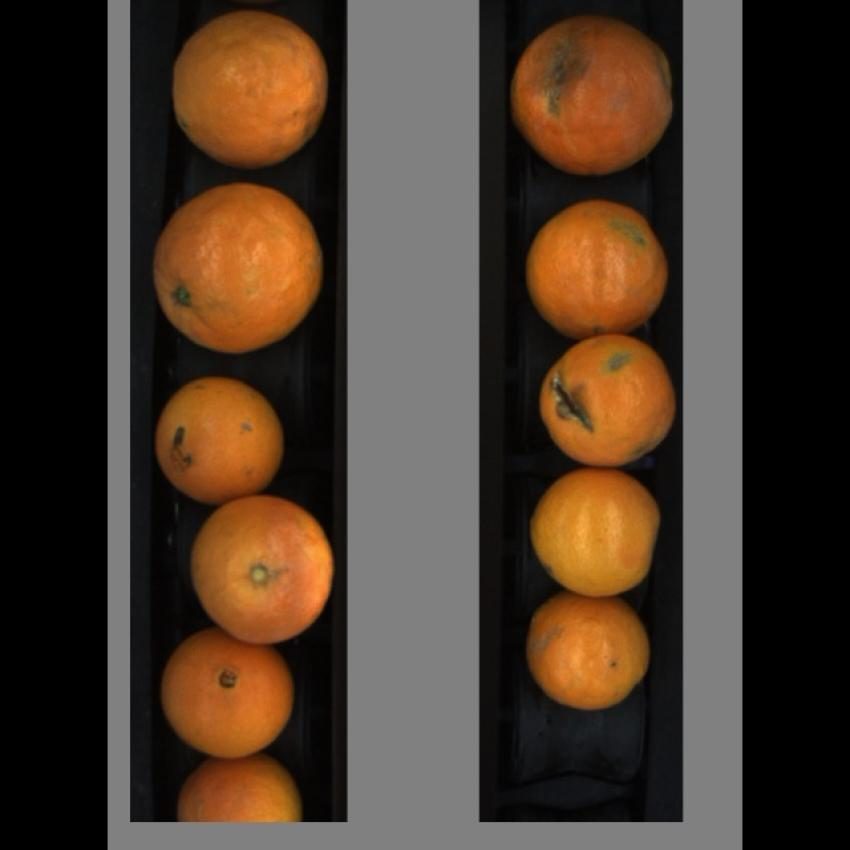Buen estado: (156, 626, 298, 760), (526, 470, 672, 600)
Mal estado: (146, 177, 330, 360), (164, 7, 333, 173), (507, 14, 677, 176), (185, 493, 337, 647), (525, 199, 674, 337), (538, 337, 684, 472), (147, 370, 295, 502), (520, 595, 666, 716), (175, 755, 307, 821)
